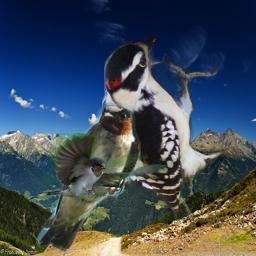Swallow: (35, 102, 141, 253), (43, 133, 167, 199)
Woodpecker: (102, 35, 223, 221)
